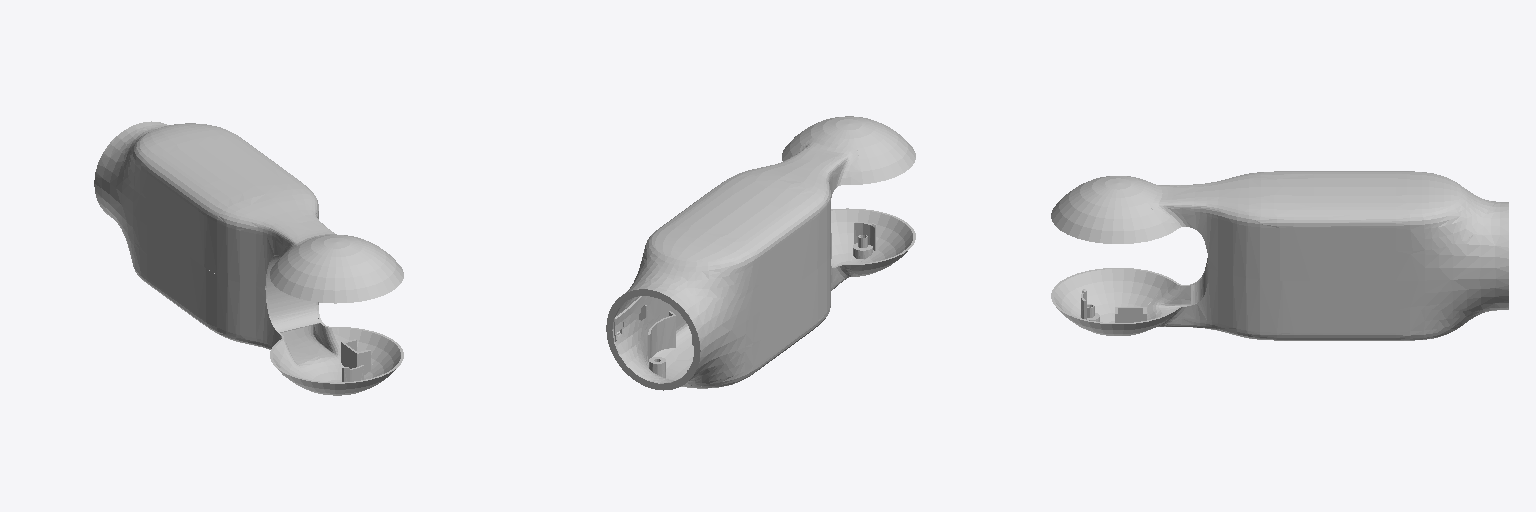
The model's file is left_arm_link5.obj.
3 views of the same model, side by side, from view 1: azimuth 30°, elevation 25°; view 2: azimuth 150°, elevation 25°; view 3: azimuth 270°, elevation 25° (orthographic).
Parts seen in each view (by area): view 1: Left_Arm_Link5_material1; view 2: Left_Arm_Link5_material1; view 3: Left_Arm_Link5_material1.
Boxes of the visible parts, x1=… form: Left_Arm_Link5_material1: x1=94, y1=121, x2=403, y2=395; Left_Arm_Link5_material1: x1=606, y1=116, x2=915, y2=390; Left_Arm_Link5_material1: x1=1051, y1=171, x2=1508, y2=340.
Size of the model in its own units: 0.0849 by 0.102 by 0.29.